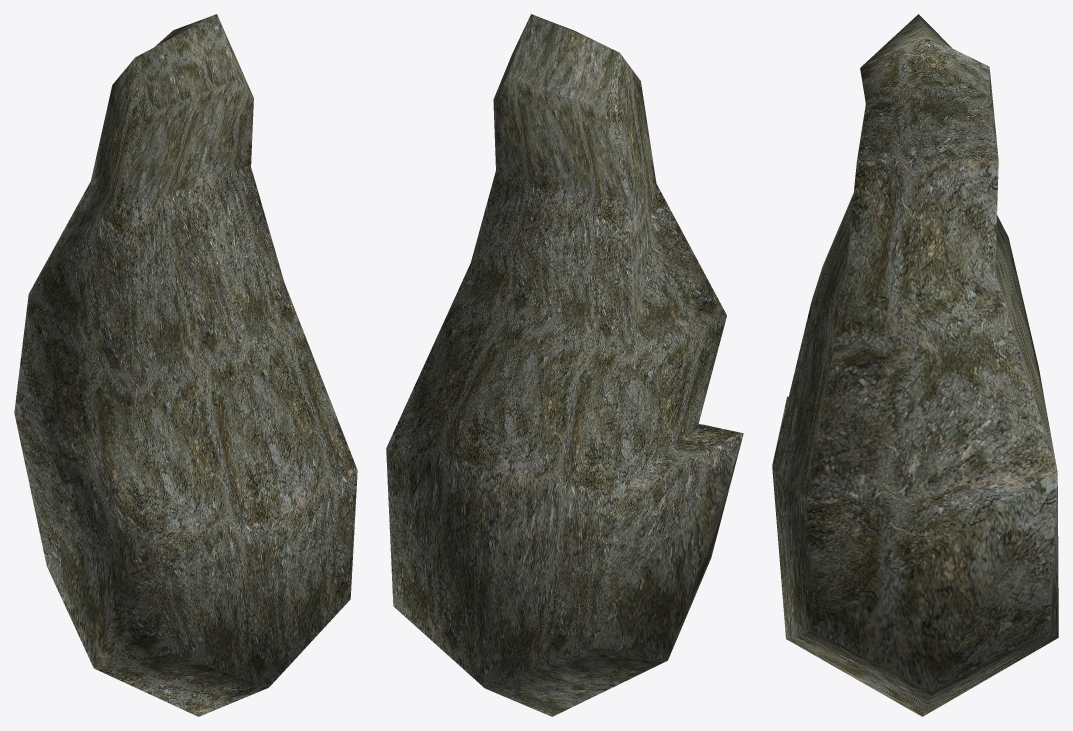
The model's file is rock_dant_a4_l2.fbx.
3 views of the same model, side by side, from view 1: azimuth 30°, elevation 25°; view 2: azimuth 150°, elevation 25°; view 3: azimuth 270°, elevation 25° (orthographic).
Parts seen in each view (by area): view 1: mesh_node; view 2: mesh_node; view 3: mesh_node.
Boxes of the visible parts, x1,y1,x2,y2 form: mesh_node: (14, 14, 357, 716); mesh_node: (386, 14, 743, 716); mesh_node: (772, 14, 1058, 716).
Size of the model in its own units: 1.94 by 5.46 by 2.05.
1 material, 1 textured.
